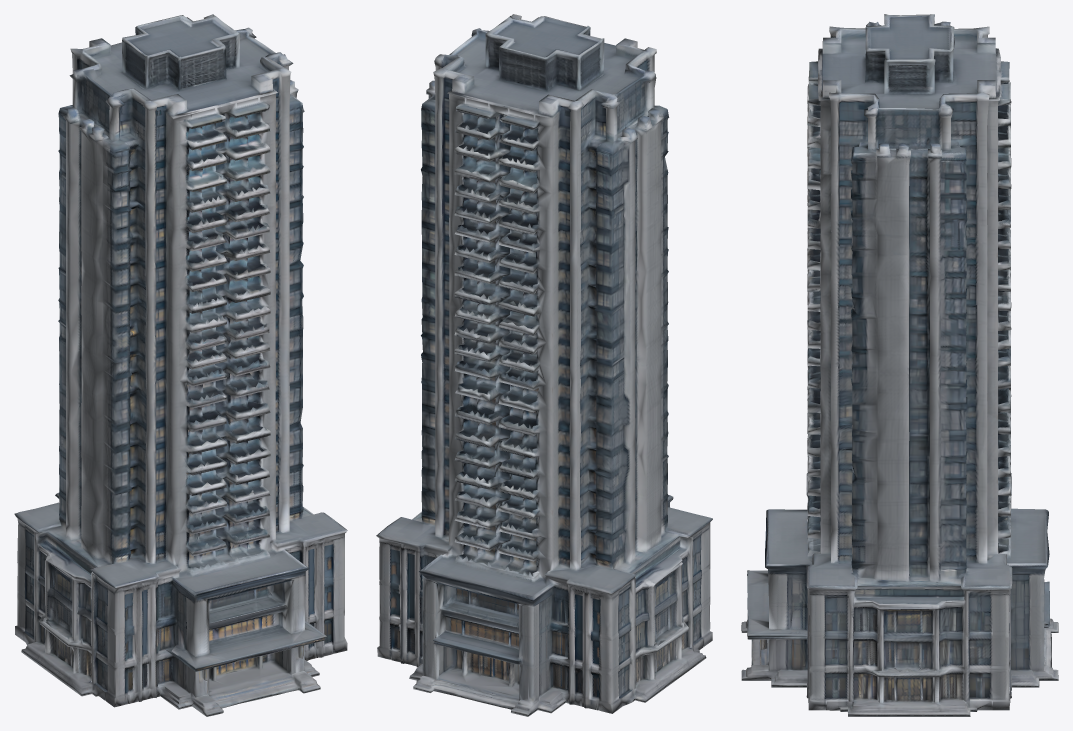
The model's file is 01-apartment-building-54.glb.
3 views of the same model, side by side, from view 1: azimuth 30°, elevation 25°; view 2: azimuth 150°, elevation 25°; view 3: azimuth 270°, elevation 25° (orthographic).
Visible parts, largest first — view 1: tripo_node_829d54cf-f696-4149-ad30-0bf2e4d54204; view 2: tripo_node_829d54cf-f696-4149-ad30-0bf2e4d54204; view 3: tripo_node_829d54cf-f696-4149-ad30-0bf2e4d54204.
Part boxes in pixels (bbox=[...]): tripo_node_829d54cf-f696-4149-ad30-0bf2e4d54204: bbox=[14, 14, 347, 716]; tripo_node_829d54cf-f696-4149-ad30-0bf2e4d54204: bbox=[376, 14, 712, 716]; tripo_node_829d54cf-f696-4149-ad30-0bf2e4d54204: bbox=[741, 14, 1058, 716].
Bounding box in the file's own units: 0.438 × 0.9823 × 0.4574.
1 material, 1 textured.
